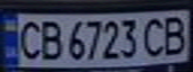2: (103, 17, 124, 61)
3: (118, 16, 142, 61)
6: (63, 17, 87, 61)
7: (81, 17, 106, 61)
B: (157, 12, 193, 56), (36, 17, 66, 62)
C: (12, 17, 45, 61), (139, 15, 172, 58)
